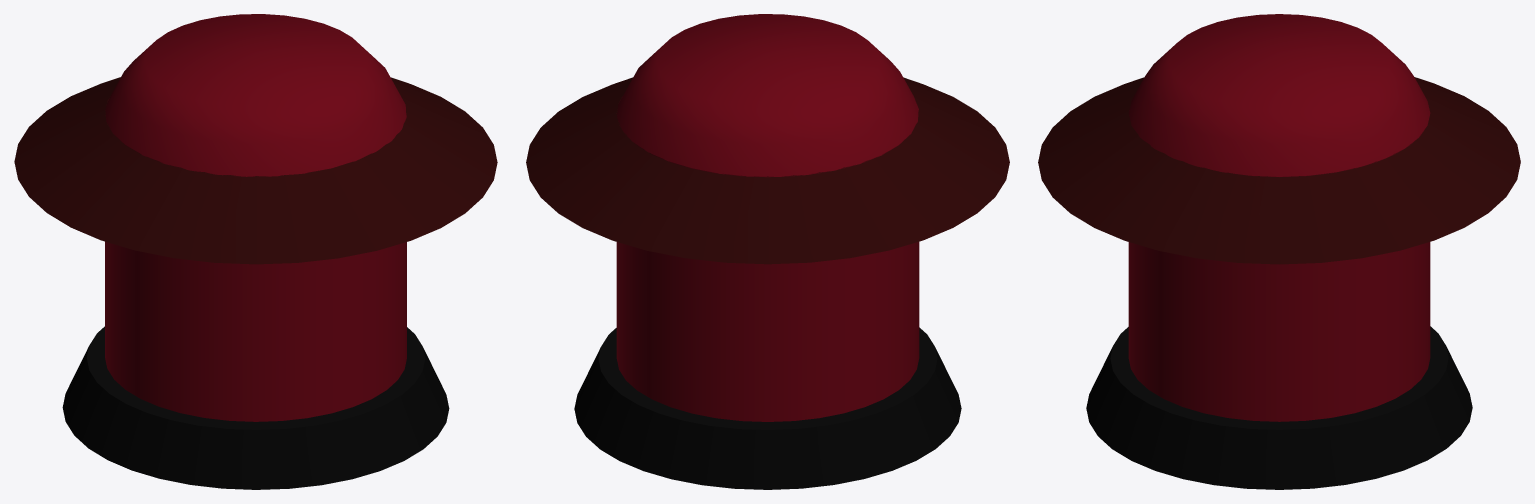
File: Bumper001.FBX
3 views of the same model, side by side, from view 1: azimuth 30°, elevation 25°; view 2: azimuth 150°, elevation 25°; view 3: azimuth 270°, elevation 25° (orthographic).
Visible parts, largest first — view 1: Cylinder001; view 2: Cylinder001; view 3: Cylinder001.
Part boxes in pixels (x1,y1,x2,y2): Cylinder001: (14, 14, 497, 489); Cylinder001: (526, 14, 1009, 489); Cylinder001: (1038, 14, 1520, 489).
Bounding box in the file's own units: 16 × 12.97 × 16.
